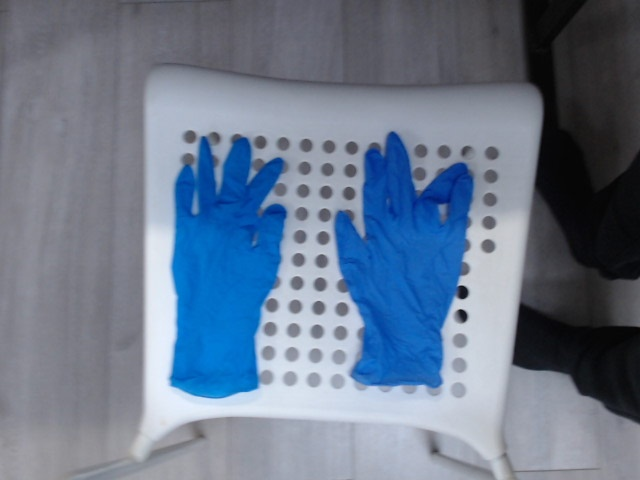medical_glove: (336, 130, 470, 387), (168, 136, 285, 397)
